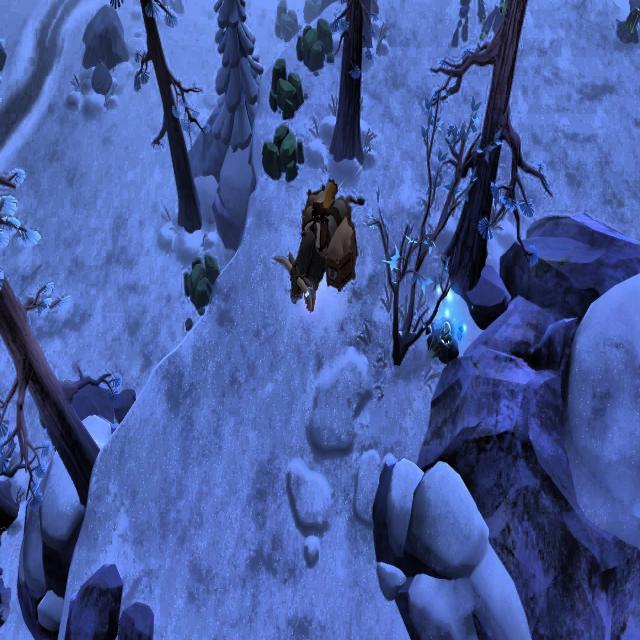rock_t3: (260, 123, 304, 184), (265, 56, 304, 116), (296, 18, 336, 74), (184, 250, 219, 311)
